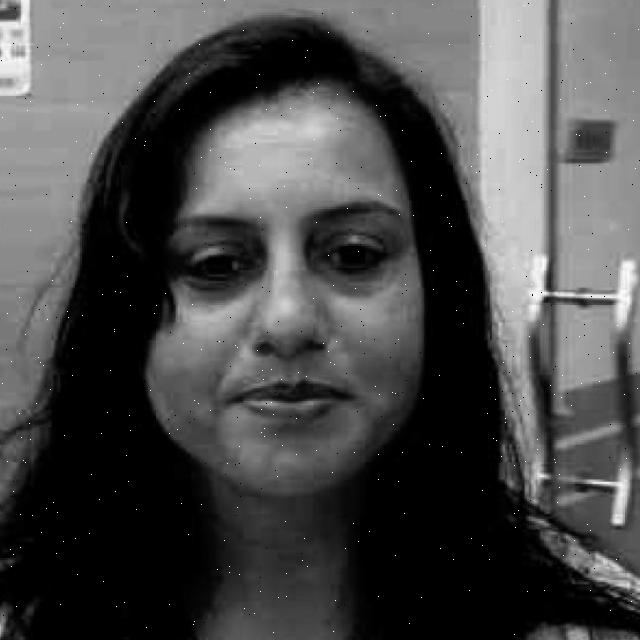puffy_eyes: (307, 236, 384, 299), (192, 270, 265, 301)
